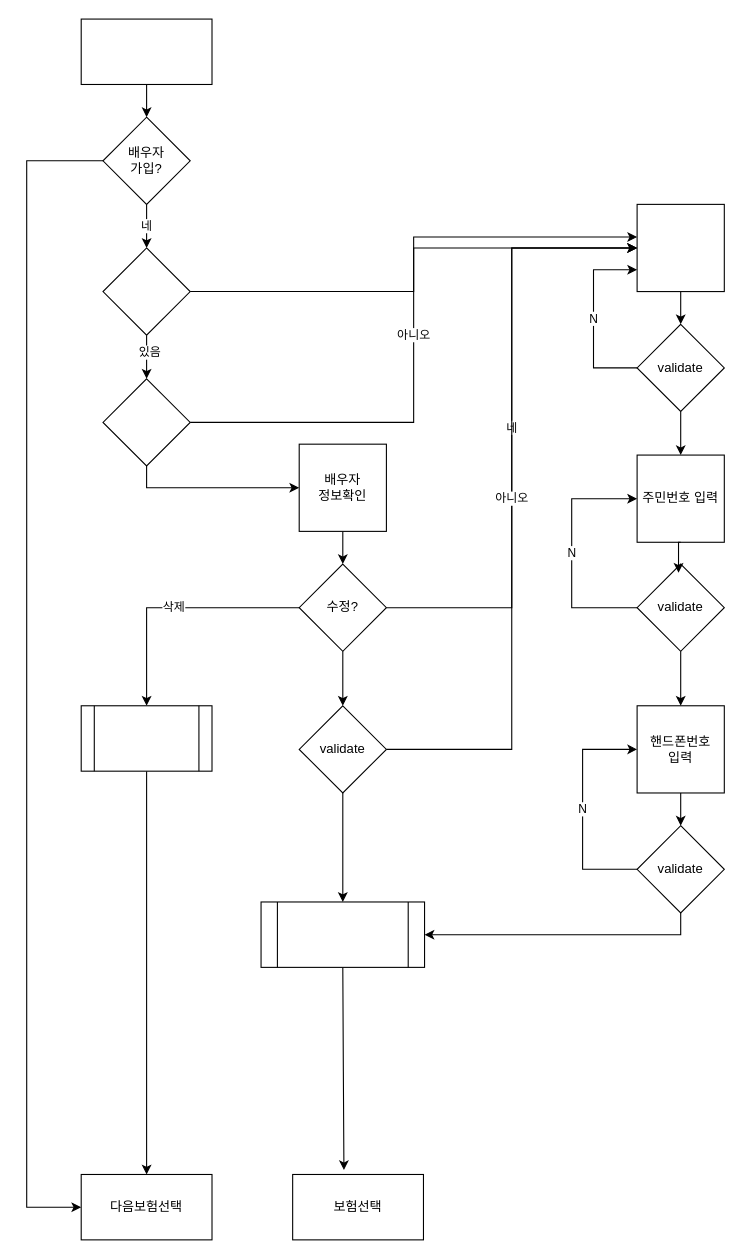
Some shapes in this 743 by 1259 pixel diagram are drawn without their labels. Each missing label, with the box of its shape:
confirmSpsIsr(step): (80, 18, 212, 84)
배우자 validate = true: (260, 901, 425, 967)
배우자정보삭제 배우자보험 삭제: (80, 705, 212, 771)
배정데이터 배우자 조회: (102, 247, 190, 335)
배정데이터 불러오시겠습니까?: (102, 378, 190, 466)
성명입력: (636, 203, 724, 292)
